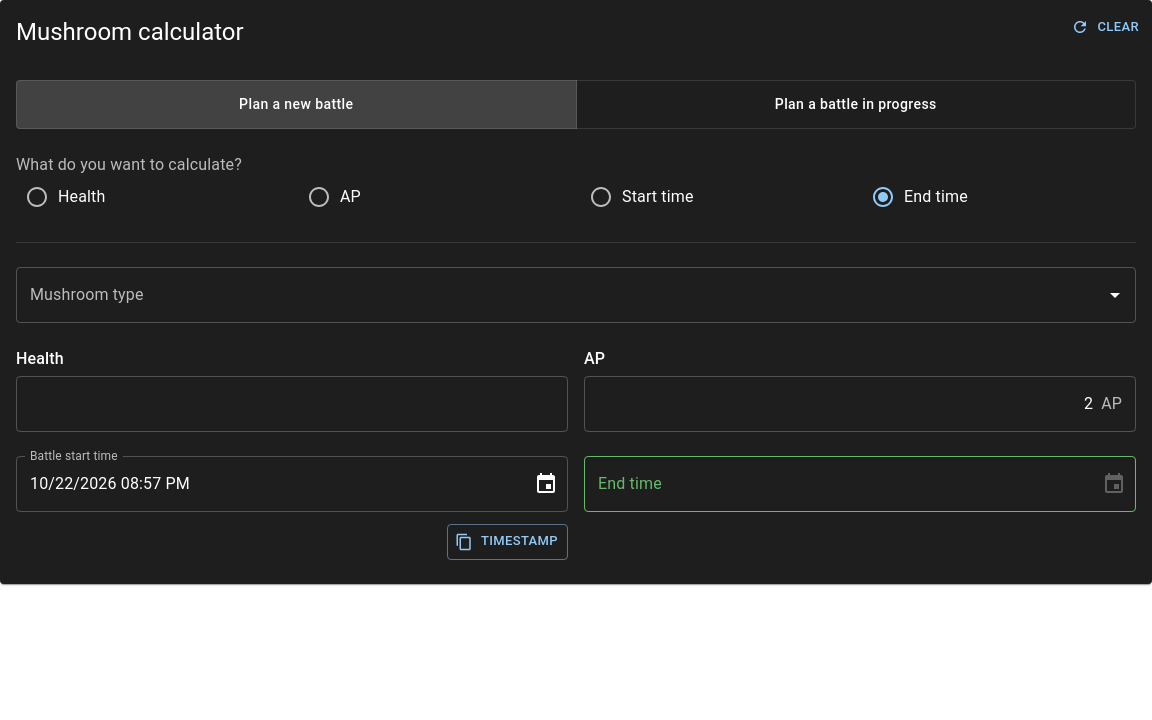
Test: MushCalcRadio › accepts a typed estimated end time and creates its Discord timestamp
The image size is (1152, 720).
Click the radio button labelled "AP": x=334, y=196 307,184 -> 361,208
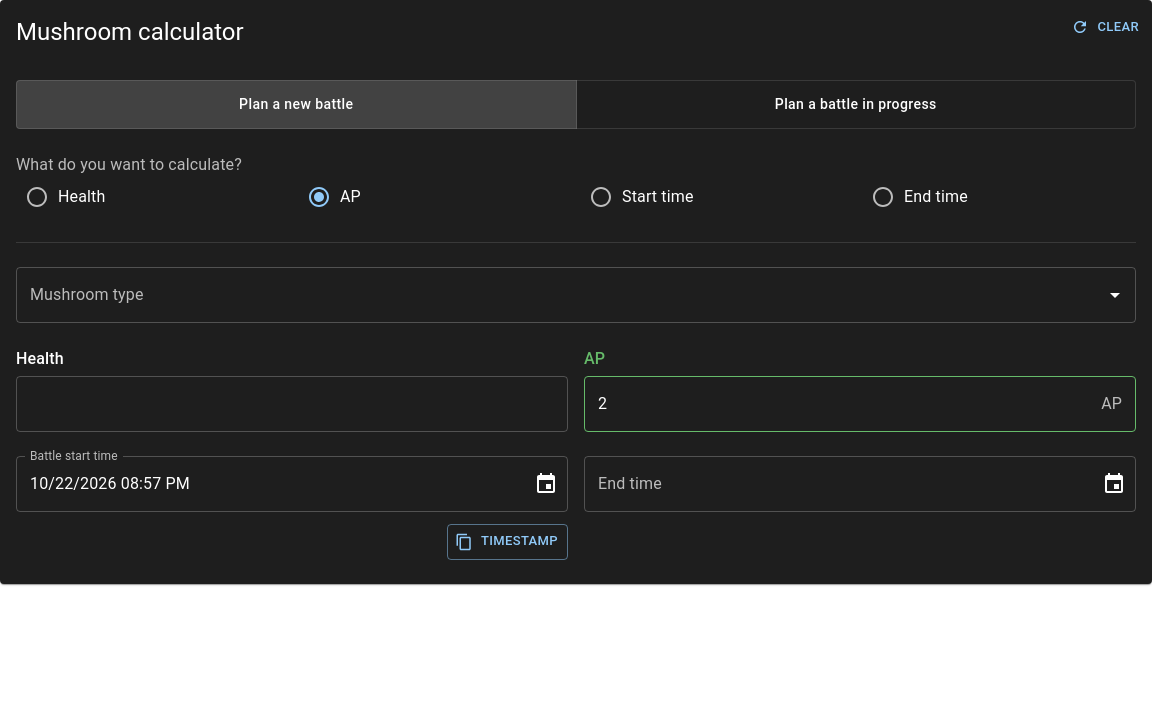
In the field labelled "End time": x=835, y=484 584,456 -> 1086,512, type "01/02/2030 12:30 PM"
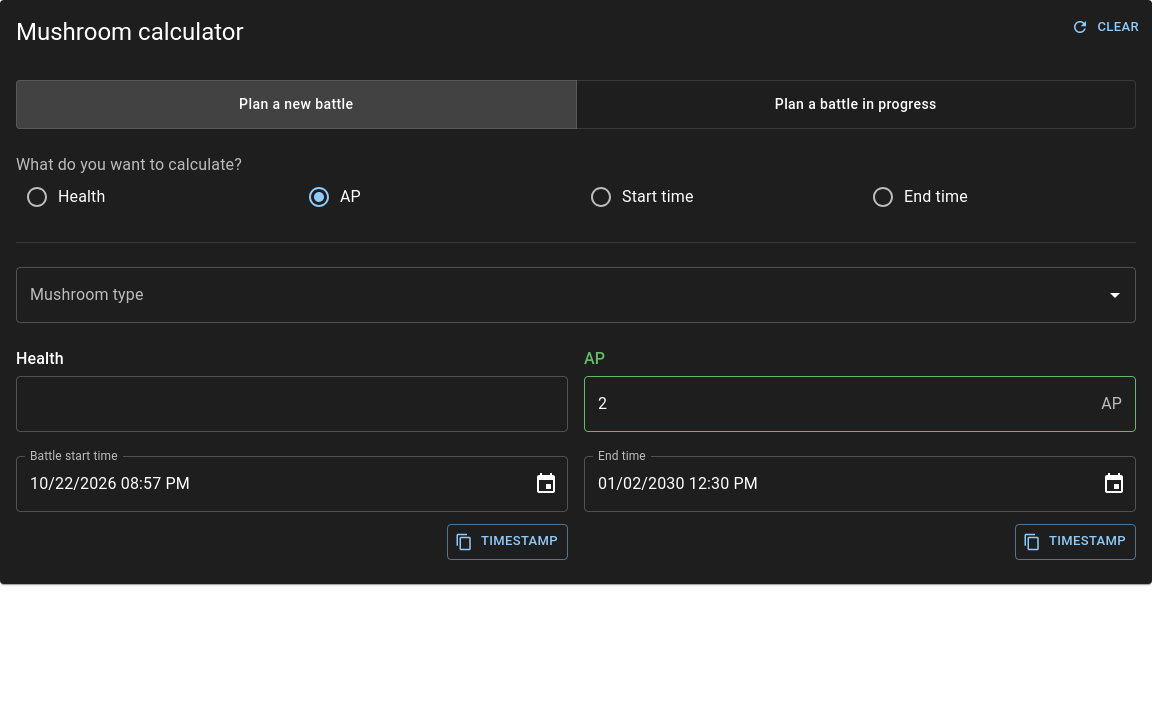
Now the button with aria-label "Copy End time Discord timestamp" is shown, box 1015,524 -> 1136,560
